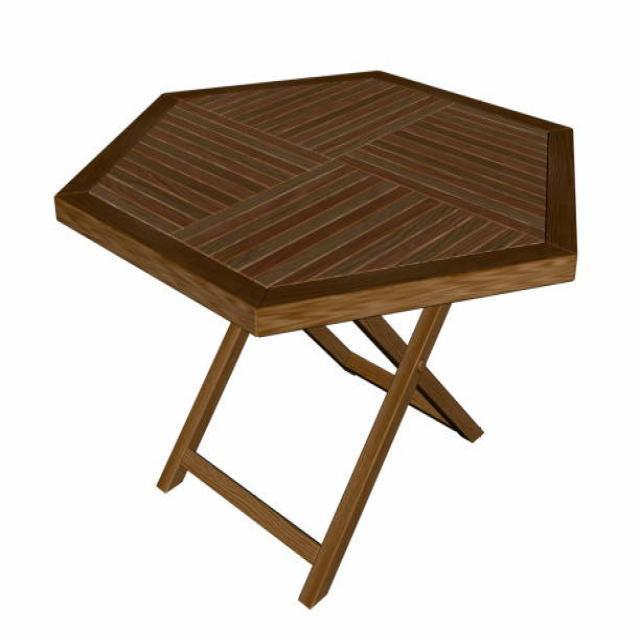table: (54, 68, 578, 609)
